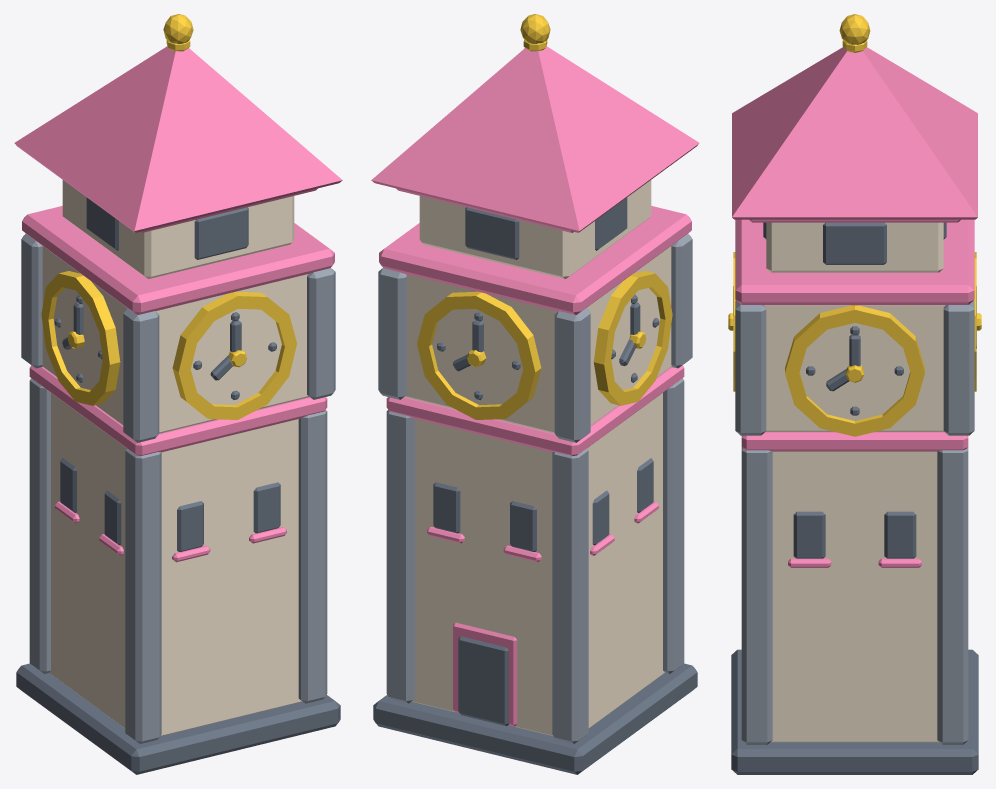
Rendered from Prop_sakura_schoolyard_ClockTower.glb.
3 renders of one model, left to right at view 1: azimuth 30°, elevation 25°; view 2: azimuth 150°, elevation 25°; view 3: azimuth 270°, elevation 25°, orthographic. The views are drawn at different scales.
Visible parts, largest first — view 1: Wall_FFF1DC, Sakura_FF8FC0, Stone_9AA4B2, StoneDark_6B7686, Yellow_FFD23F; view 2: Wall_FFF1DC, Sakura_FF8FC0, Stone_9AA4B2, StoneDark_6B7686, Yellow_FFD23F; view 3: Wall_FFF1DC, Sakura_FF8FC0, Stone_9AA4B2, StoneDark_6B7686, Yellow_FFD23F.
Part boxes in pixels (bbox=[...]): Wall_FFF1DC: bbox=[42, 180, 308, 735]; Sakura_FF8FC0: bbox=[14, 46, 342, 562]; Stone_9AA4B2: bbox=[21, 233, 335, 743]; StoneDark_6B7686: bbox=[16, 197, 340, 774]; Yellow_FFD23F: bbox=[41, 14, 296, 419]; Wall_FFF1DC: bbox=[405, 180, 671, 735]; Sakura_FF8FC0: bbox=[371, 46, 699, 726]; Stone_9AA4B2: bbox=[378, 233, 692, 743]; StoneDark_6B7686: bbox=[373, 197, 697, 774]; Yellow_FFD23F: bbox=[417, 14, 672, 419]; Wall_FFF1DC: bbox=[764, 222, 945, 742]; Sakura_FF8FC0: bbox=[732, 47, 977, 567]; Stone_9AA4B2: bbox=[735, 300, 974, 744]; StoneDark_6B7686: bbox=[731, 222, 978, 774]; Yellow_FFD23F: bbox=[728, 14, 981, 436].
Bounding box in the file's own units: 12.3 × 38.02 × 12.3.
